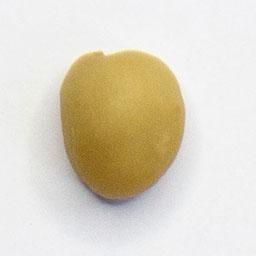defect: (55, 46, 191, 208)
